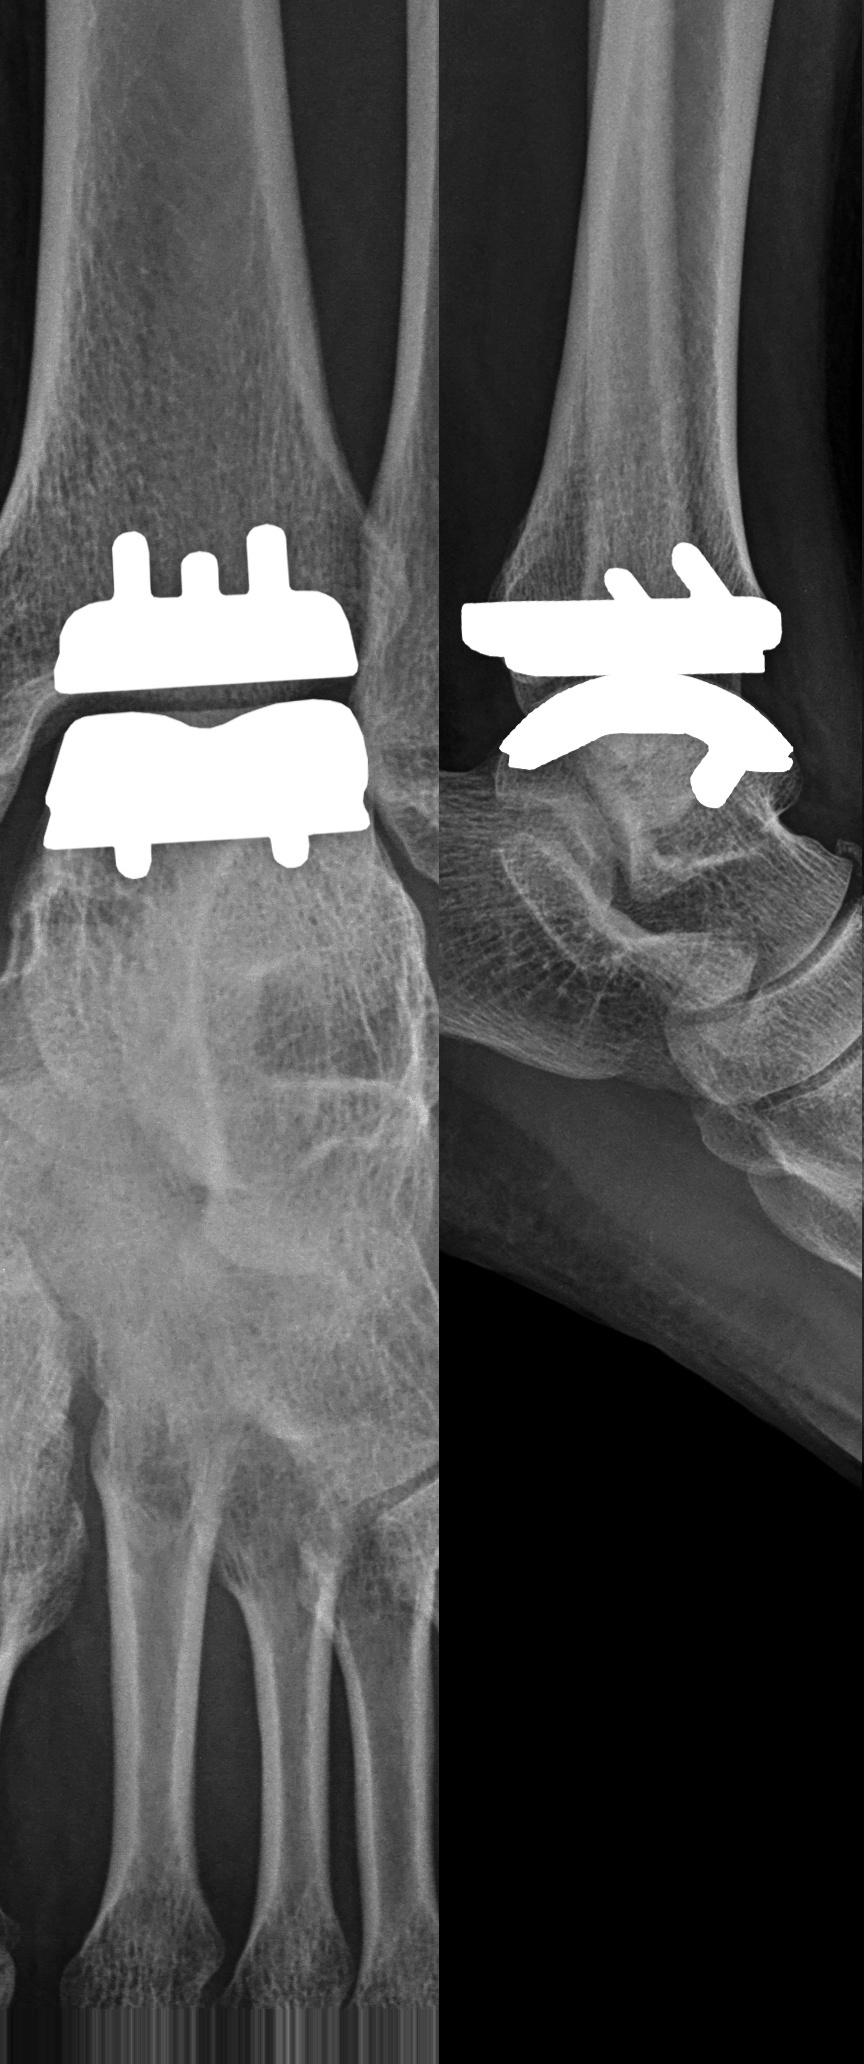Ankle - Infinity - Wright: (36, 513, 389, 911), (443, 540, 803, 819)
